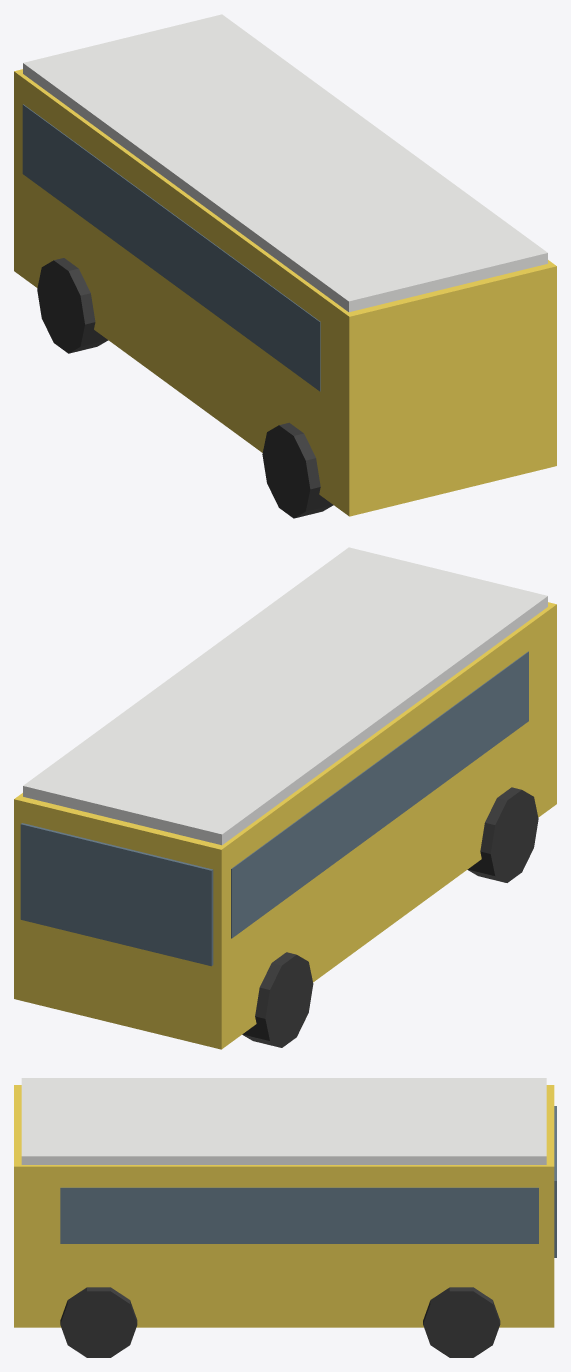
File: IZ_Autobus.fbx
The picture shows the model from 3 angles, top to bottom: view 1: azimuth 30°, elevation 25°; view 2: azimuth 150°, elevation 25°; view 3: azimuth 270°, elevation 25°; orthographic projection. The views are drawn at different scales.
Visible parts, largest first — view 1: IZ_Autobus; view 2: IZ_Autobus; view 3: IZ_Autobus.
Boxes of the visible parts, x1,y1,x2,y2 form: IZ_Autobus: (14, 14, 556, 518); IZ_Autobus: (14, 547, 556, 1049); IZ_Autobus: (14, 1078, 556, 1357).
Size of the model in its own units: 2.75 by 2.8 by 7.04.
